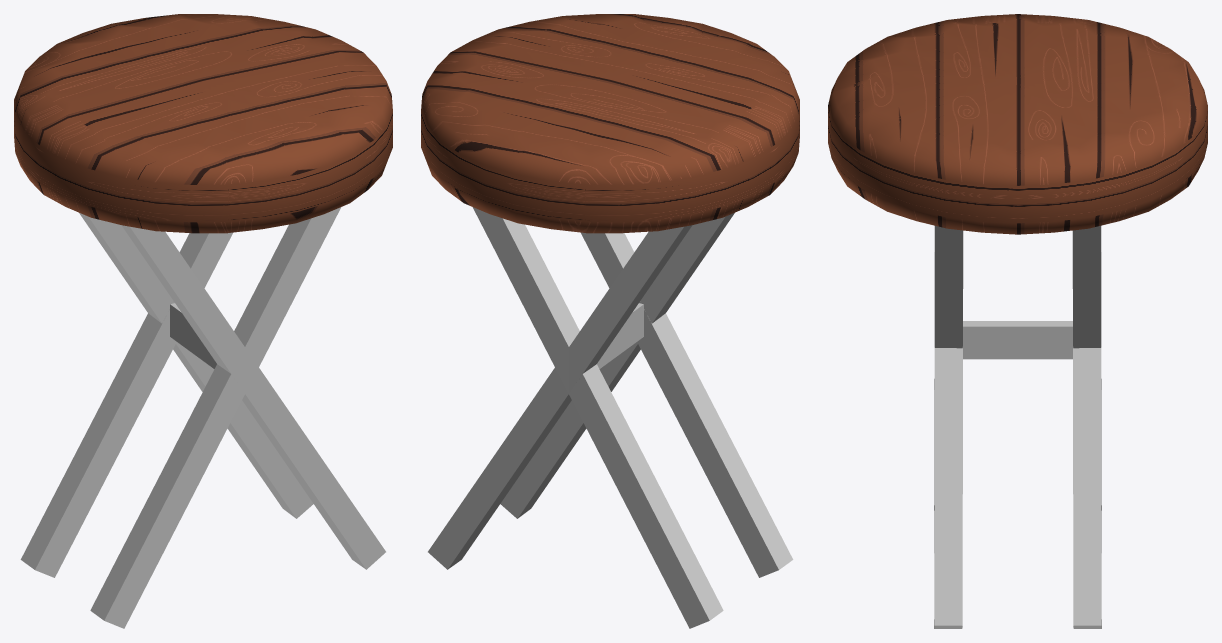
Rendered from stool.fbx.
3 renders of one model, left to right at view 1: azimuth 30°, elevation 25°; view 2: azimuth 150°, elevation 25°; view 3: azimuth 270°, elevation 25°, orthographic.
Parts seen in each view (by area): view 1: Cylinder.009; view 2: Cylinder.009; view 3: Cylinder.009.
Part boxes in pixels (<box>): Cylinder.009: <box>14,14,392,628</box>; Cylinder.009: <box>421,14,799,628</box>; Cylinder.009: <box>828,14,1207,628</box>.
Size of the model in its own units: 17.05 by 24.21 by 17.05.
